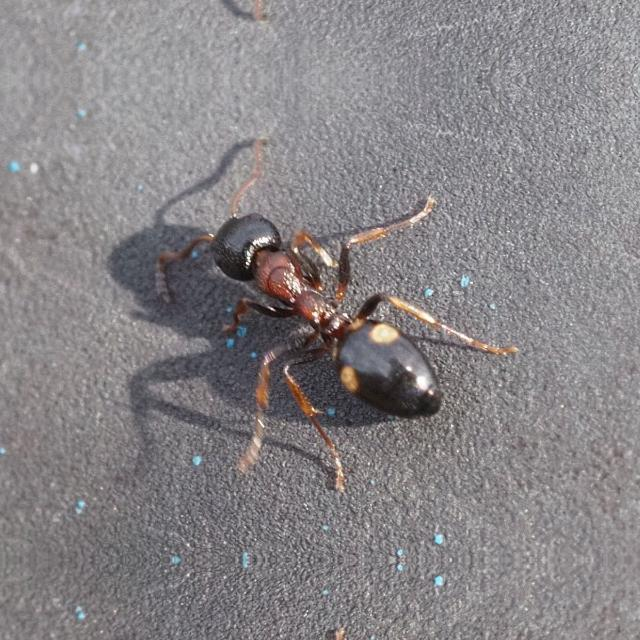Dolichoderus: (136, 155, 518, 451)
